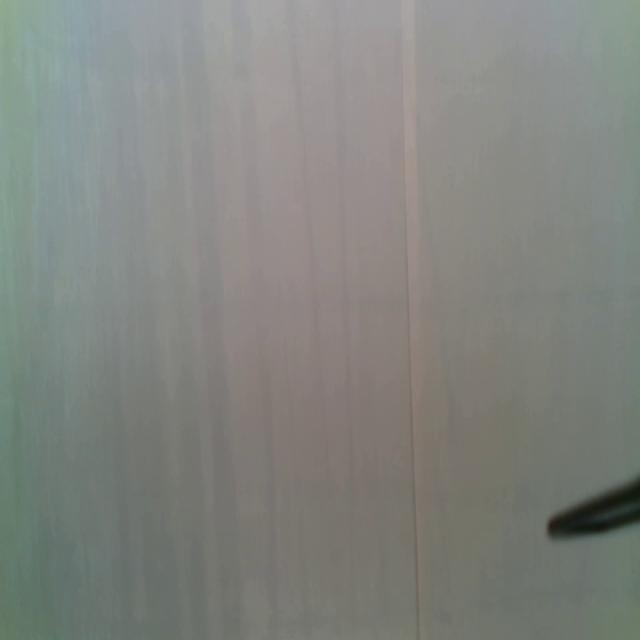crease: (400, 0, 422, 640)
